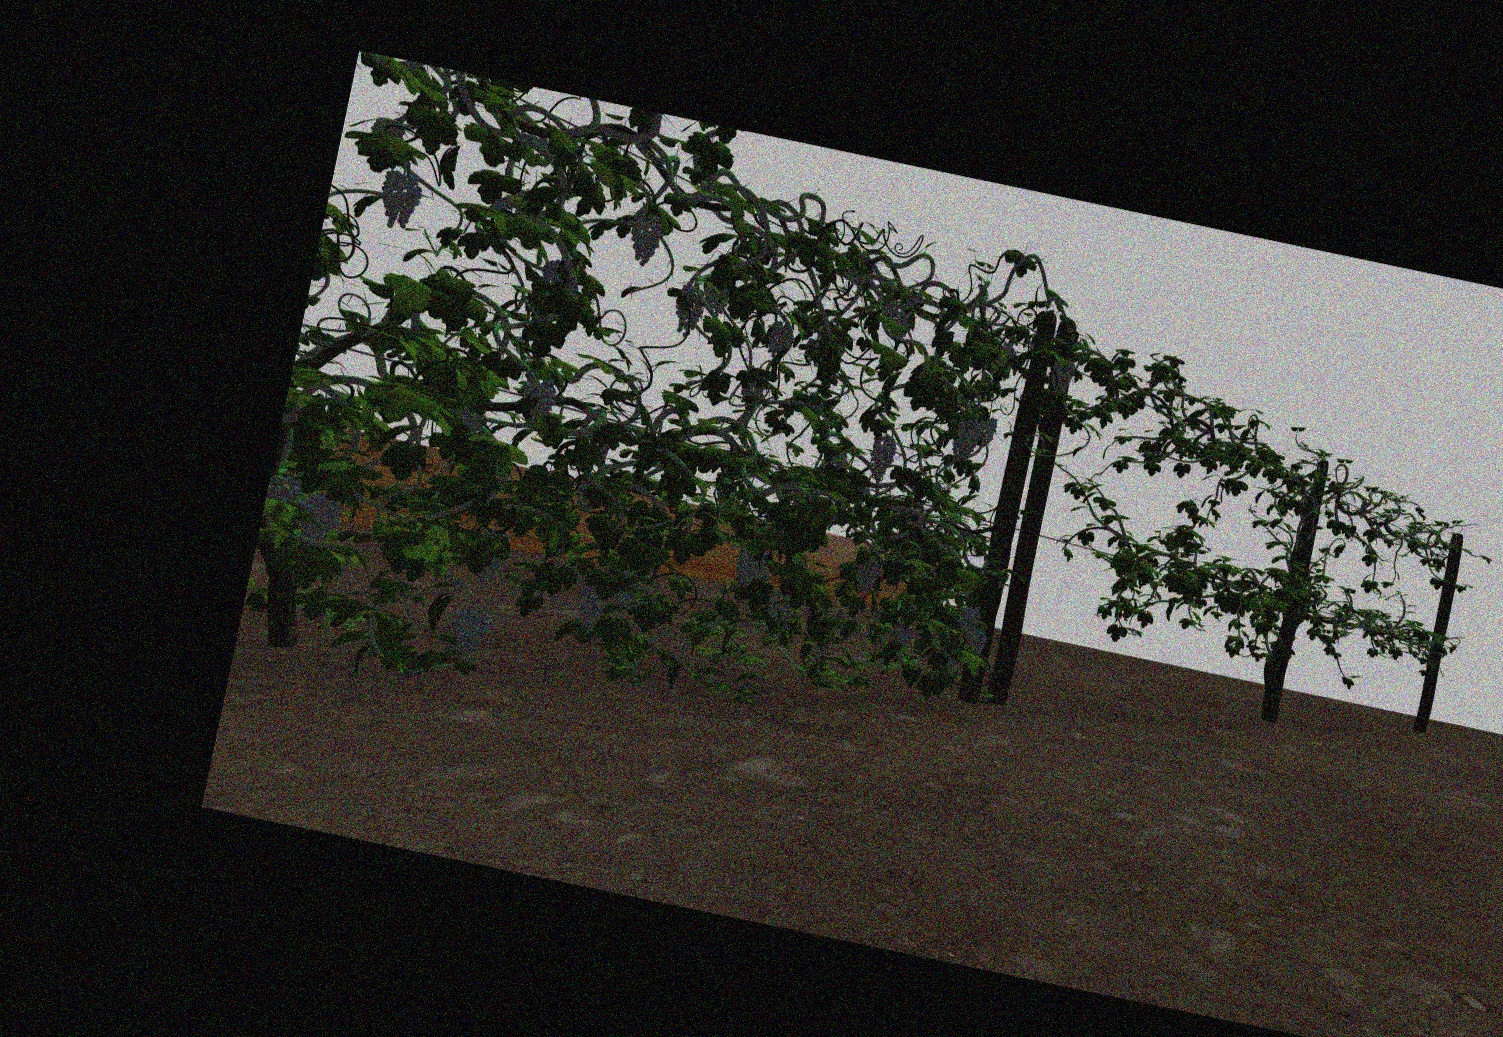grape: (377, 170, 420, 230), (295, 491, 339, 548), (449, 606, 487, 657), (629, 207, 661, 265), (519, 376, 554, 428), (573, 582, 606, 633), (673, 286, 702, 336), (950, 418, 980, 463), (733, 548, 759, 594), (870, 435, 897, 479), (854, 554, 881, 595), (766, 321, 790, 357), (1048, 359, 1074, 393), (892, 617, 915, 652), (764, 598, 793, 624), (962, 626, 986, 656), (955, 605, 978, 633), (976, 416, 996, 447)
